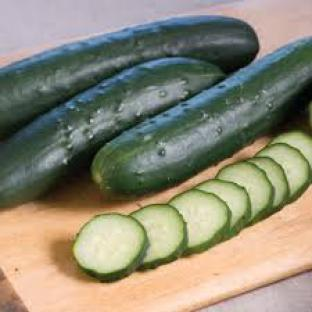Cucumber: (93, 38, 311, 195), (0, 59, 223, 206), (0, 17, 259, 137), (74, 214, 148, 281), (170, 189, 231, 255), (132, 204, 187, 269), (218, 161, 274, 224), (257, 143, 310, 201), (196, 179, 250, 235), (247, 157, 289, 213), (270, 131, 311, 167)
